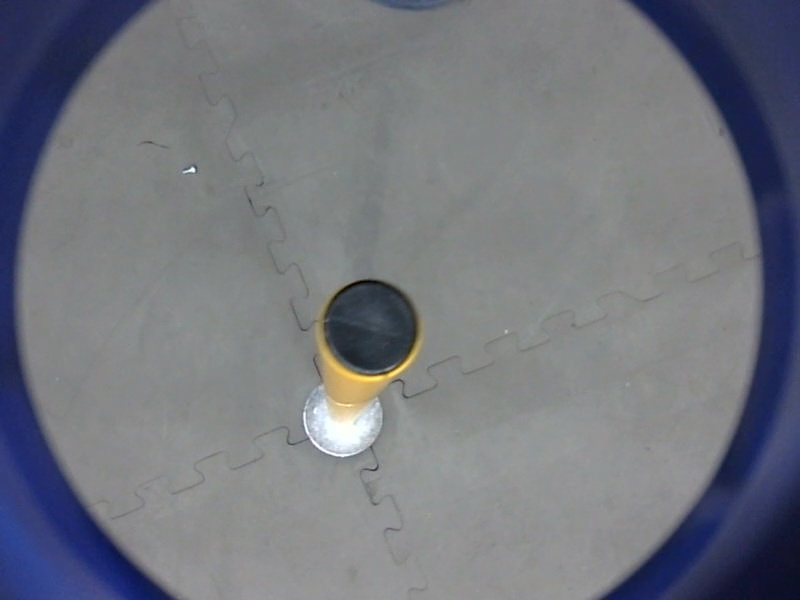tip: (307, 273, 427, 385)
